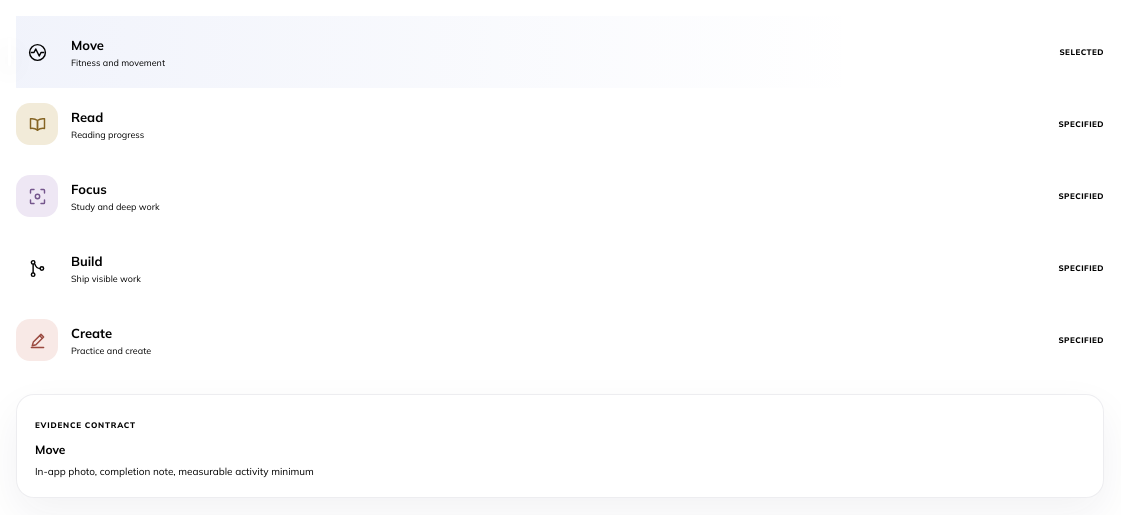
Scenario: TemplateShowcase › moves selection and evidence detail to Build
Click the button "Build Ship visible work Specified" at (87, 260), box top-left (16, 232), bottom-right (1104, 304)
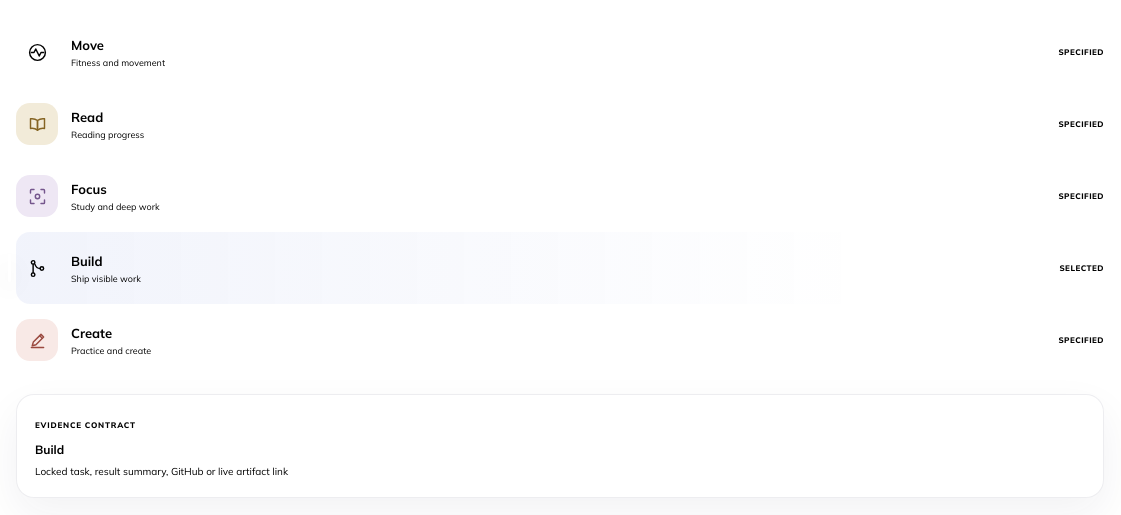
Expected: the element named "Selected evidence contract" shows "GitHub or live artifact link", top-left (35, 465), bottom-right (288, 478)
